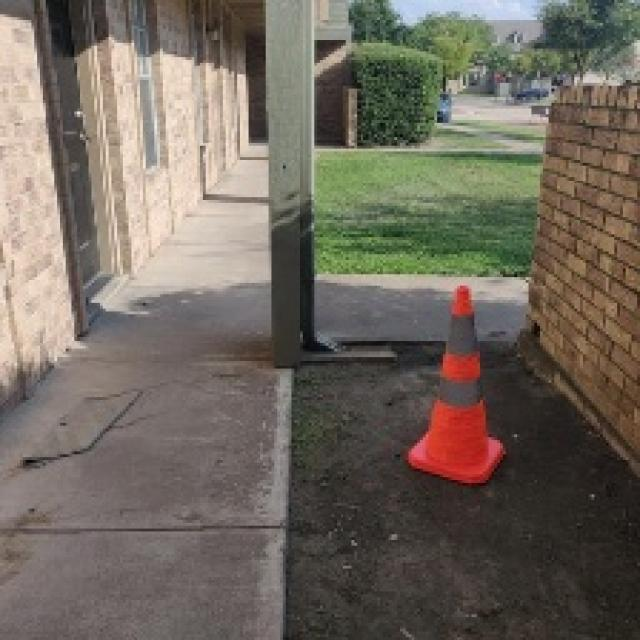cone: (404, 280, 506, 485)
